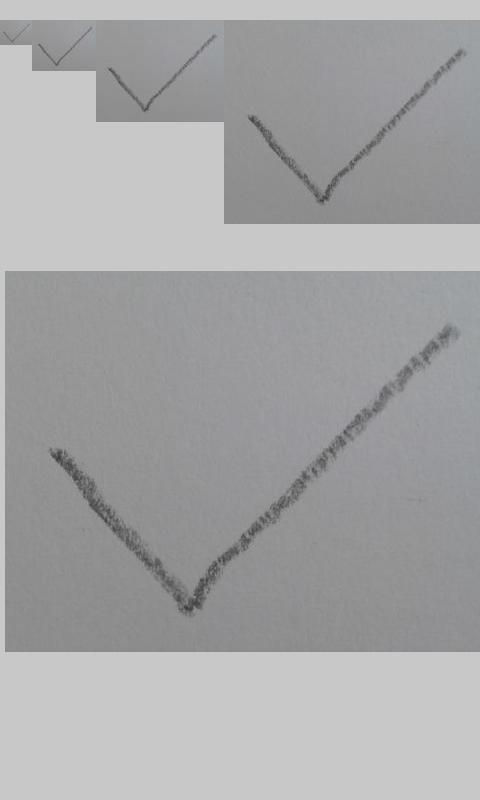check_box: (47, 325, 458, 613), (249, 49, 465, 204), (108, 34, 217, 112), (38, 27, 92, 66), (3, 24, 30, 43)
